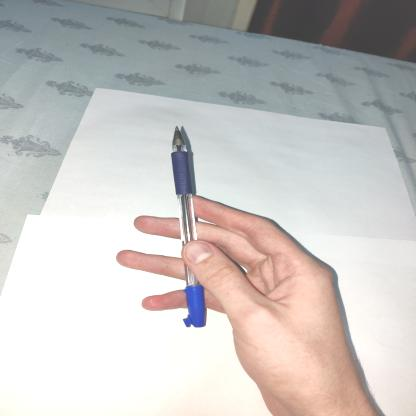Pen: (163, 115, 210, 313)
